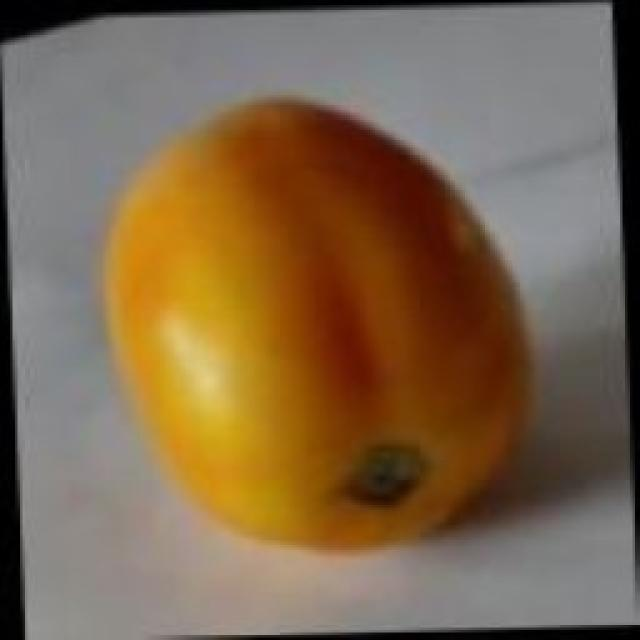unripe: (188, 188, 361, 467)
